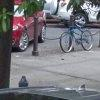Bicycle: (54, 12, 96, 57)
